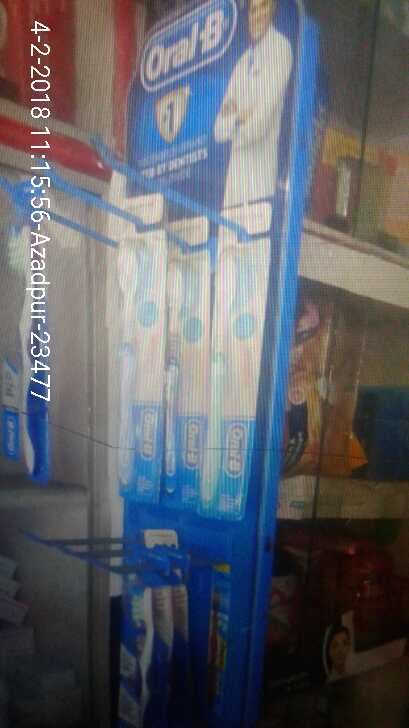oralb: (97, 233, 148, 487), (200, 243, 248, 507), (1, 219, 44, 512)
